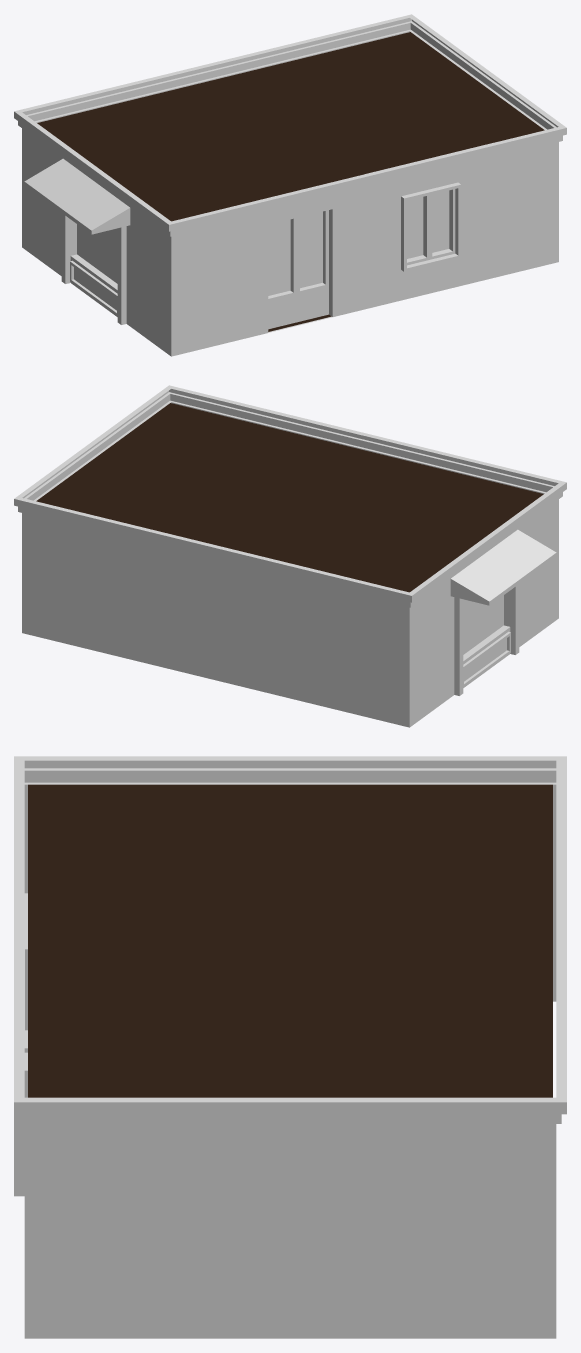
Rendered from ModularWalls_YK.fbx.
3 renders of one model, top to bottom at view 1: azimuth 30°, elevation 25°; view 2: azimuth 150°, elevation 25°; view 3: azimuth 270°, elevation 25°, orthographic. The views are drawn at different scales.
Visible parts, largest first — view 1: ZPlane.002, Window_low.001, Door_low.001, Coin_low.001, Window2_low.001, Coin_low.003, Coin_low.002, Mur_low.001, Mur_low.003, Coin_low.004, Mur_low.002; view 2: ZPlane.002, Mur_low.003, Mur_low.001, Coin_low.002, Window2_low.001, Coin_low.004, Coin_low.001, Window_low.001, Door_low.001, Coin_low.003, Mur_low.002; view 3: ZPlane.002, Mur_low.002, Coin_low.003, Coin_low.004, Window2_low.001, Coin_low.002, Coin_low.001, Window_low.001, Door_low.001, Mur_low.001, Mur_low.003.
Part boxes in pixels (box(x1,y1,x2,y2)): ZPlane.002: box(37, 32, 544, 221); Window_low.001: box(365, 142, 497, 309); Door_low.001: box(236, 174, 367, 340); Coin_low.001: box(129, 194, 238, 356); Window2_low.001: box(24, 139, 133, 328); Coin_low.003: box(494, 98, 566, 277); Coin_low.002: box(14, 94, 86, 274); Mur_low.001: box(83, 63, 215, 110); Mur_low.003: box(213, 31, 344, 79); Coin_low.004: box(342, 14, 451, 58); Mur_low.002: box(447, 44, 526, 112); ZPlane.002: box(36, 403, 543, 592); Mur_low.003: box(83, 514, 215, 680); Mur_low.001: box(213, 545, 344, 711); Coin_low.002: box(342, 565, 451, 727); Window2_low.001: box(447, 510, 556, 699); Coin_low.004: box(14, 469, 86, 648); Coin_low.001: box(494, 465, 566, 645); Window_low.001: box(236, 402, 367, 450); Door_low.001: box(365, 434, 497, 481); Coin_low.003: box(129, 385, 238, 429); Mur_low.002: box(54, 415, 133, 483); ZPlane.002: box(28, 784, 552, 1097); Mur_low.002: box(157, 1097, 423, 1338); Coin_low.003: box(14, 1041, 157, 1338); Coin_low.004: box(423, 1041, 566, 1338); Window2_low.001: box(157, 756, 423, 784); Coin_low.002: box(423, 756, 566, 1001); Coin_low.001: box(14, 756, 157, 893); Window_low.001: box(14, 929, 27, 1196); Door_low.001: box(14, 817, 27, 1030); Mur_low.001: box(556, 817, 566, 929); Mur_low.003: box(556, 929, 566, 1041).
Size of what is drawn, in the model's own units: 334 by 100 by 208.
